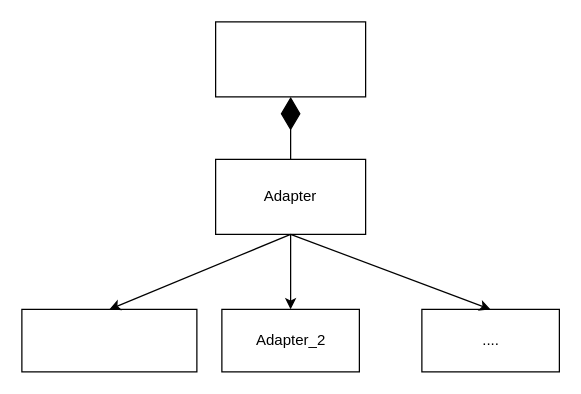
Image size: 581x394. Some labels were removed from this diagram. The shapes that lost their labels are listed below. From the top down, each one's centre as x and y in pixels, then its label:
point (290, 59): Market Adapter
point (109, 340): BinanceFuturesAdapter
